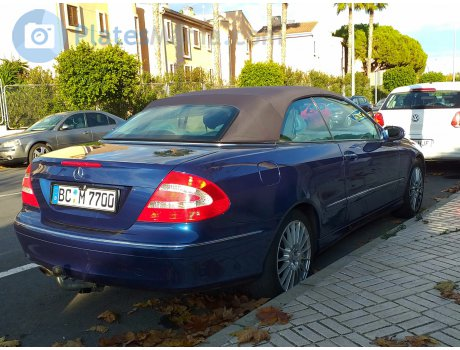License Plates: (55, 179, 114, 210)
